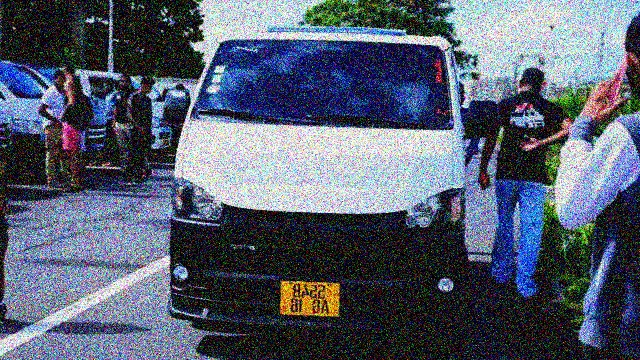van: (164, 29, 471, 334)
